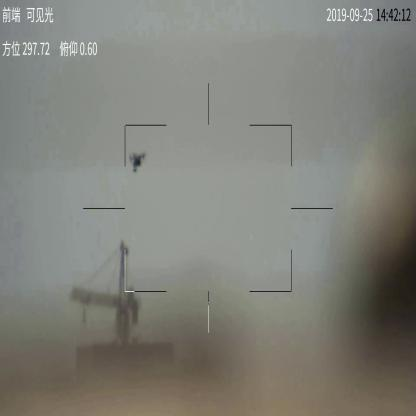uav: (127, 150, 147, 173)
